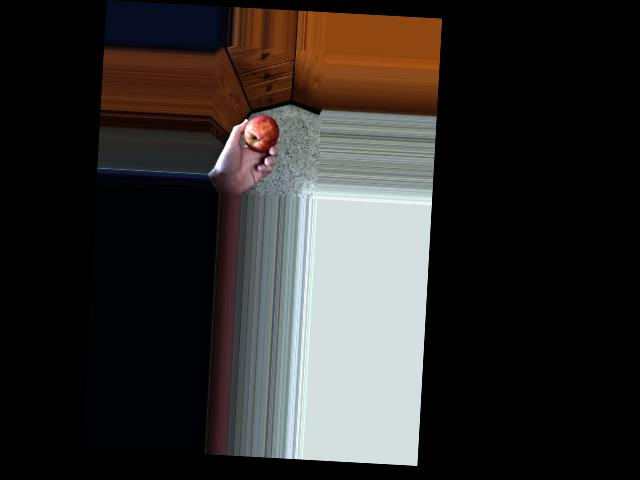apple: (236, 112, 280, 163)
